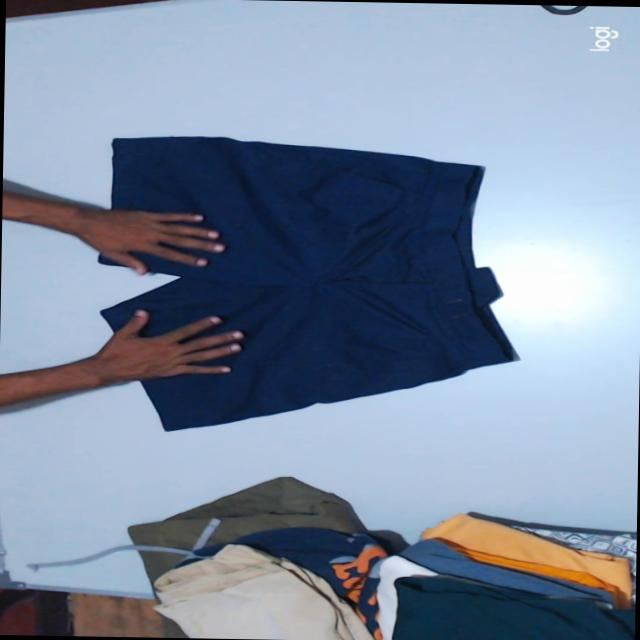new-garment: (100, 136, 512, 429)
